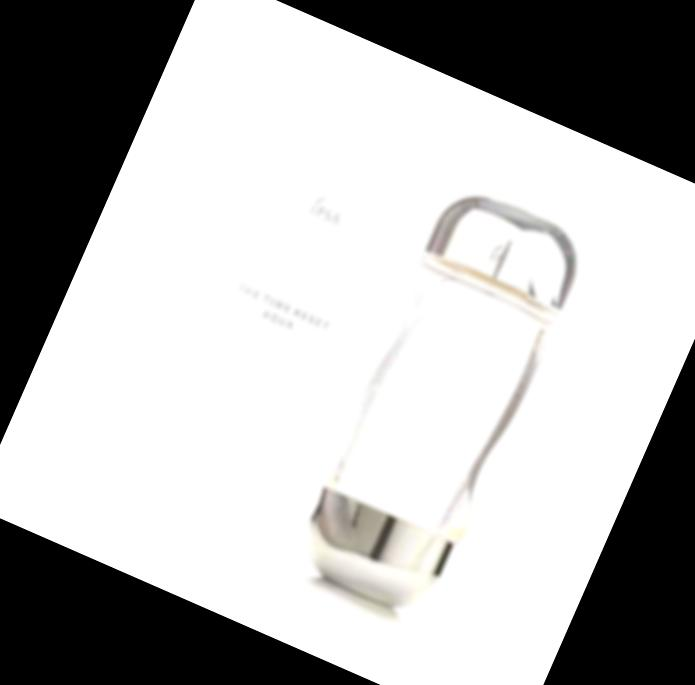cosmetic: (286, 180, 599, 629)
